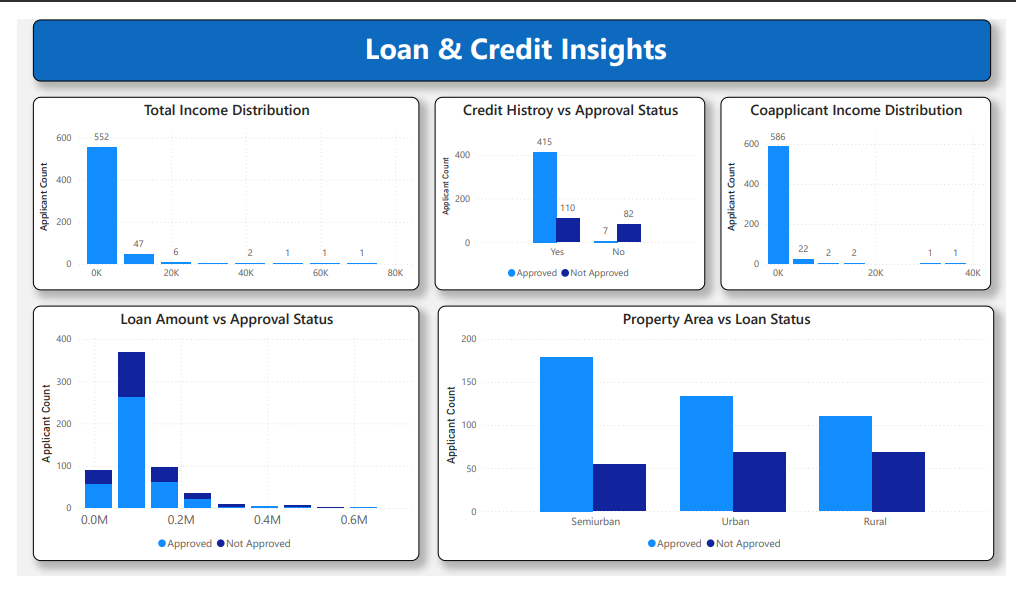

The dashboard page shown, as its layout file describes it:
{"tool":"powerbi","page":{"name":"Loan & Credit Insights","canvas":[1280,720],"ordinal":2},"visuals":[{"type":"textbox","box":[20,0,1240,80],"z":0},{"type":"clusteredColumnChart","title":"Credit Histroy vs Approval Status","fields":{"Category":["loan_dataset.Credit_History"],"Y":["CountNonNull(loan_dataset.Loan_ID)"],"Series":["loan_dataset.Loan_Status"]},"box":[540,100,350,250],"z":2},{"type":"columnChart","title":"Loan Amount vs Approval Status","fields":{"Category":["loan_dataset.LoanAmount (bins)"],"Y":["CountNonNull(loan_dataset.Loan_ID)"],"Series":["loan_dataset.Loan_Status"]},"box":[20,370,500,330],"z":3},{"type":"columnChart","title":"Coapplicant Income Distribution","fields":{"Y":["CountNonNull(loan_dataset.Loan_ID)"],"Category":["loan_dataset.CoapplicantIncome (bins)"]},"box":[910,100,350,250],"z":4},{"type":"clusteredColumnChart","title":"Property Area vs Loan Status","fields":{"Category":["loan_dataset.Property_Area"],"Y":["CountNonNull(loan_dataset.Loan_ID)"],"Series":["loan_dataset.Loan_Status"]},"box":[544,370,720,330],"z":5},{"type":"columnChart","title":"Total Income Distribution","fields":{"Y":["CountNonNull(loan_dataset.Loan_ID)"],"Category":["loan_dataset.Total_Income (bins)"]},"box":[20,100,500,250],"z":6}]}

Visuals, with their boxes in screenshot pixels (x1, y1, x2, y2):
textbox: BBox(26, 16, 997, 79)
"Credit Histroy vs Approval Status" clusteredColumnChart: BBox(433, 94, 707, 290)
"Loan Amount vs Approval Status" columnChart: BBox(26, 306, 418, 564)
"Coapplicant Income Distribution" columnChart: BBox(723, 94, 997, 290)
"Property Area vs Loan Status" clusteredColumnChart: BBox(436, 306, 1000, 564)
"Total Income Distribution" columnChart: BBox(26, 94, 418, 290)
